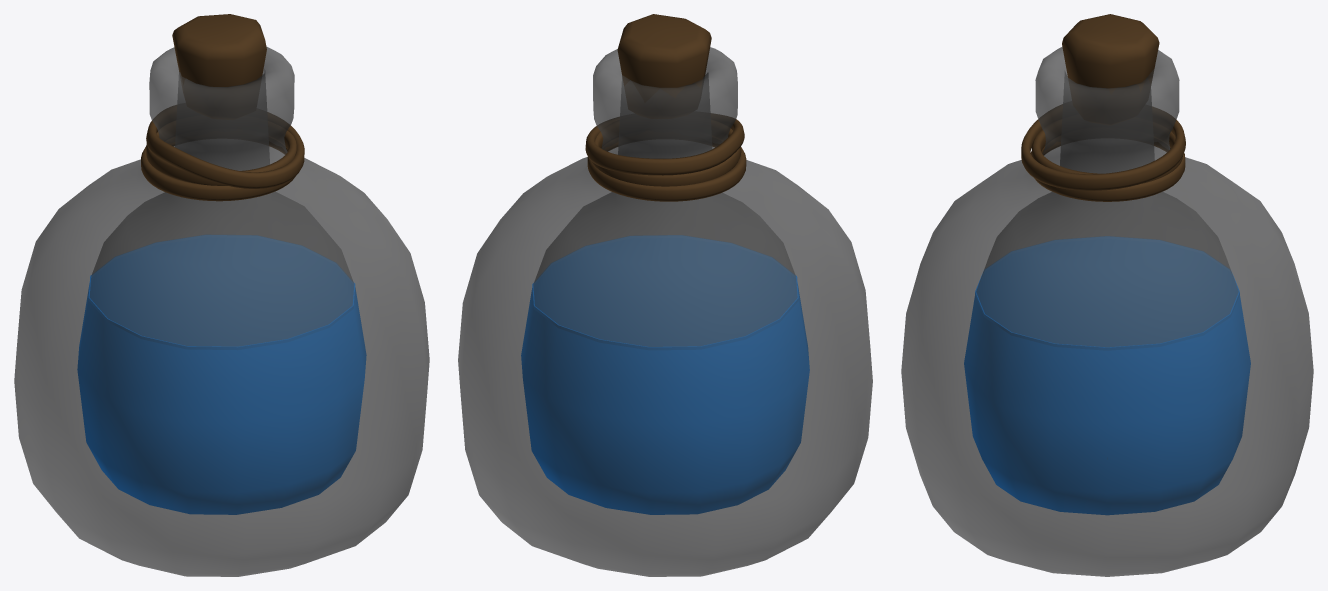
The model's file is grifins_sweat.fbx.
3 renders of one model, left to right at view 1: azimuth 30°, elevation 25°; view 2: azimuth 150°, elevation 25°; view 3: azimuth 270°, elevation 25°, orthographic.
Visible parts, largest first — view 1: grifinsSweat; view 2: grifinsSweat; view 3: grifinsSweat.
Boxes of the visible parts, x1=… form: grifinsSweat: x1=14, y1=14, x2=429, y2=576; grifinsSweat: x1=458, y1=14, x2=872, y2=576; grifinsSweat: x1=901, y1=14, x2=1313, y2=576.
Size of the model in its own units: 34.03 by 45.32 by 34.03.
